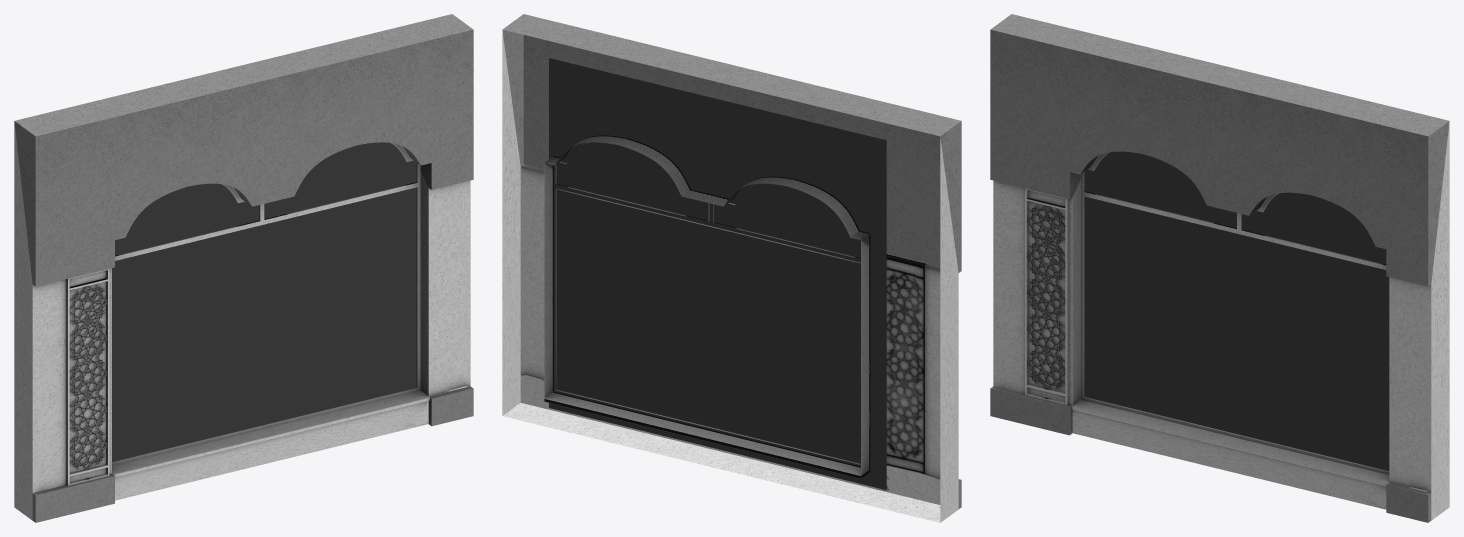
The model's file is floorfirst_5.glb.
The picture shows the model from 3 angles, left to right: view 1: azimuth 30°, elevation 25°; view 2: azimuth 150°, elevation 25°; view 3: azimuth 330°, elevation 25°; orthographic projection.
Parts seen in each view (by area): view 1: floorfirst_5; view 2: floorfirst_5; view 3: floorfirst_5.
Boxes of the visible parts, left/top/right/bottom form: floorfirst_5: left=14, top=14, right=473, bottom=522; floorfirst_5: left=502, top=14, right=961, bottom=522; floorfirst_5: left=990, top=14, right=1449, bottom=522.
Bounding box in the file's own units: 4.15 × 3.5 × 0.35.
3 materials, 2 textured.
